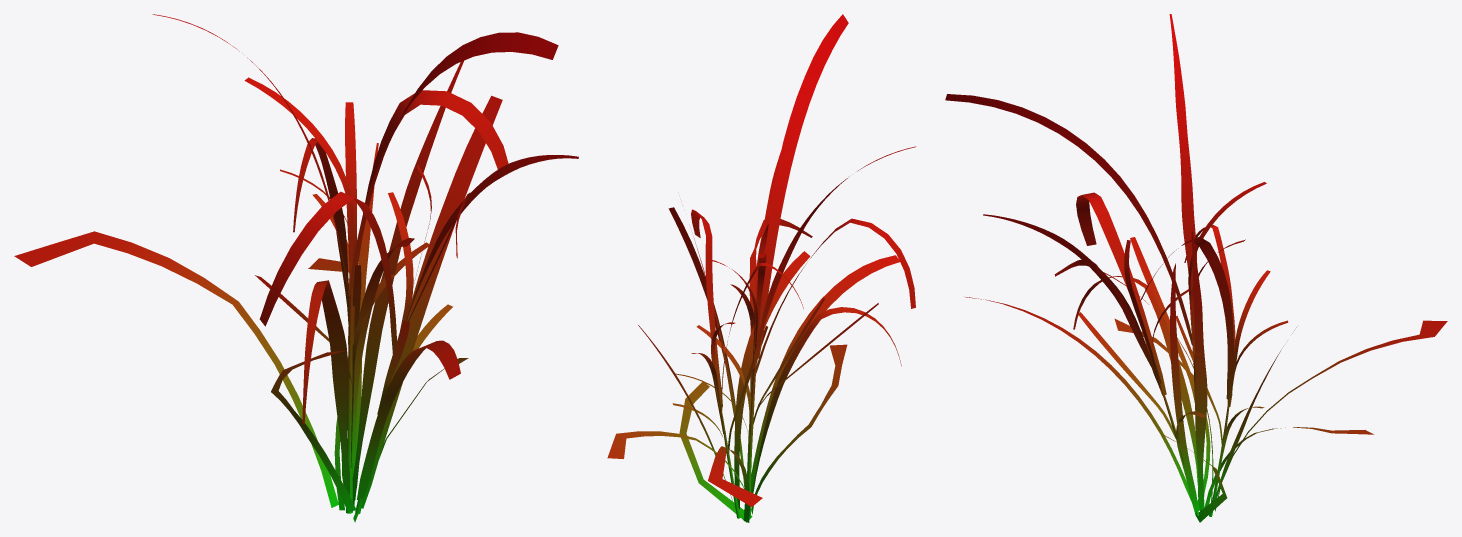
Rendered from Lemongrass_LOD0_Var1_sktne.fbx.
3 renders of one model, left to right at view 1: azimuth 30°, elevation 25°; view 2: azimuth 150°, elevation 25°; view 3: azimuth 270°, elevation 25°, orthographic. The views are drawn at different scales.
Parts seen in each view (by area): view 1: _0d1d_Var1_LOD0; view 2: _0d1d_Var1_LOD0; view 3: _0d1d_Var1_LOD0.
Boxes of the visible parts, left/top/right/bottom form: _0d1d_Var1_LOD0: left=14, top=14, right=578, bottom=522; _0d1d_Var1_LOD0: left=607, top=14, right=915, bottom=522; _0d1d_Var1_LOD0: left=945, top=14, right=1447, bottom=522.
Bounding box in the file's own units: 27.13 × 43.75 × 45.19.
